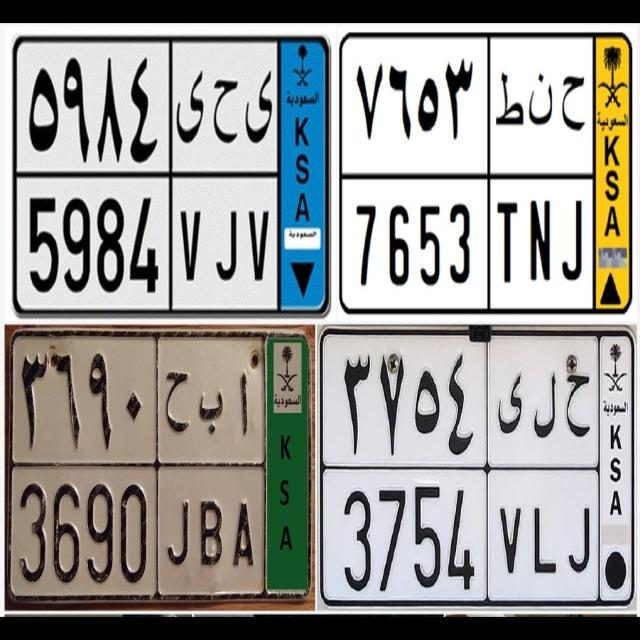license_plate: (320, 463, 602, 607), (12, 168, 282, 316), (7, 459, 269, 599), (340, 172, 596, 314)
